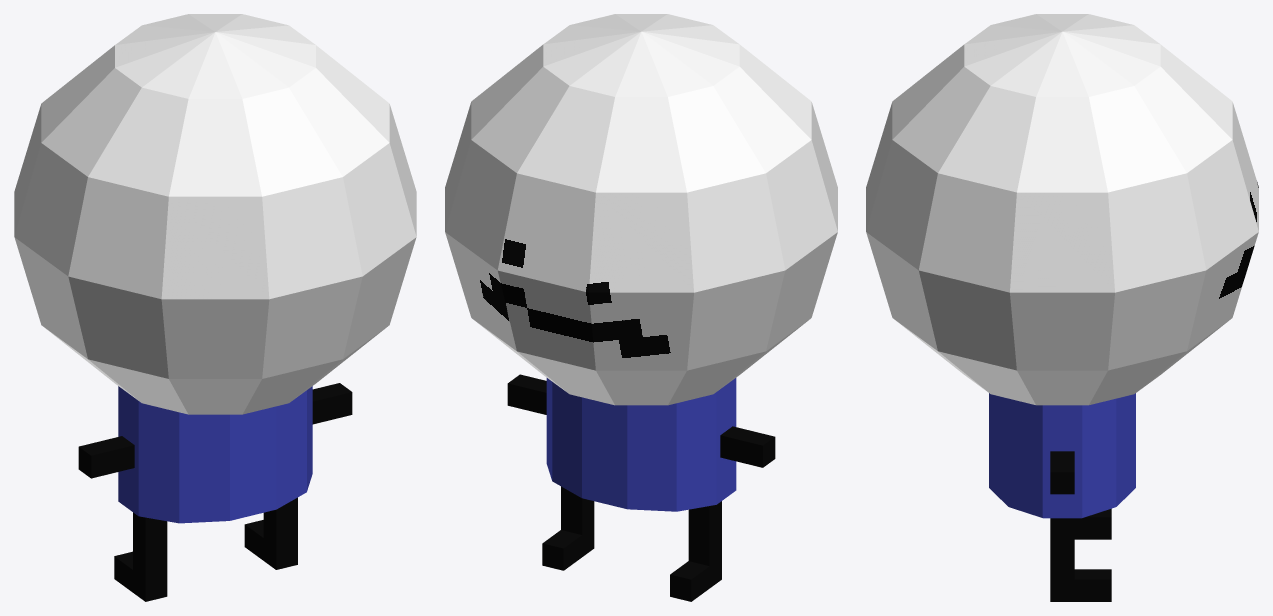
File: fisheggstwopointfivedee.fbx
The picture shows the model from 3 angles, left to right: view 1: azimuth 30°, elevation 25°; view 2: azimuth 150°, elevation 25°; view 3: azimuth 270°, elevation 25°; orthographic projection. The views are drawn at different scales.
Visible parts, largest first — view 1: head, body, left leg, right leg, left arm, right arm; view 2: head, body, left leg, right leg, left arm, right arm; view 3: head, body, right leg, right arm, left leg.
Part boxes in pixels (bbox=[...]): head: bbox=[14, 14, 416, 414]; body: bbox=[118, 386, 312, 523]; left leg: bbox=[114, 512, 167, 601]; right leg: bbox=[244, 497, 297, 569]; left arm: bbox=[78, 436, 134, 478]; right arm: bbox=[312, 383, 352, 424]; head: bbox=[445, 14, 837, 405]; body: bbox=[546, 378, 736, 511]; left leg: bbox=[670, 501, 721, 601]; right leg: bbox=[542, 486, 594, 570]; left arm: bbox=[720, 426, 775, 467]; right arm: bbox=[507, 374, 546, 414]; head: bbox=[866, 14, 1258, 405]; body: bbox=[989, 393, 1135, 518]; right leg: bbox=[1050, 518, 1111, 601]; right arm: bbox=[1050, 451, 1074, 494]; left leg: bbox=[1074, 508, 1111, 539].
Bounding box in the file's own units: 100 × 150 × 100.
Materials: 1 (1 with a texture image).
